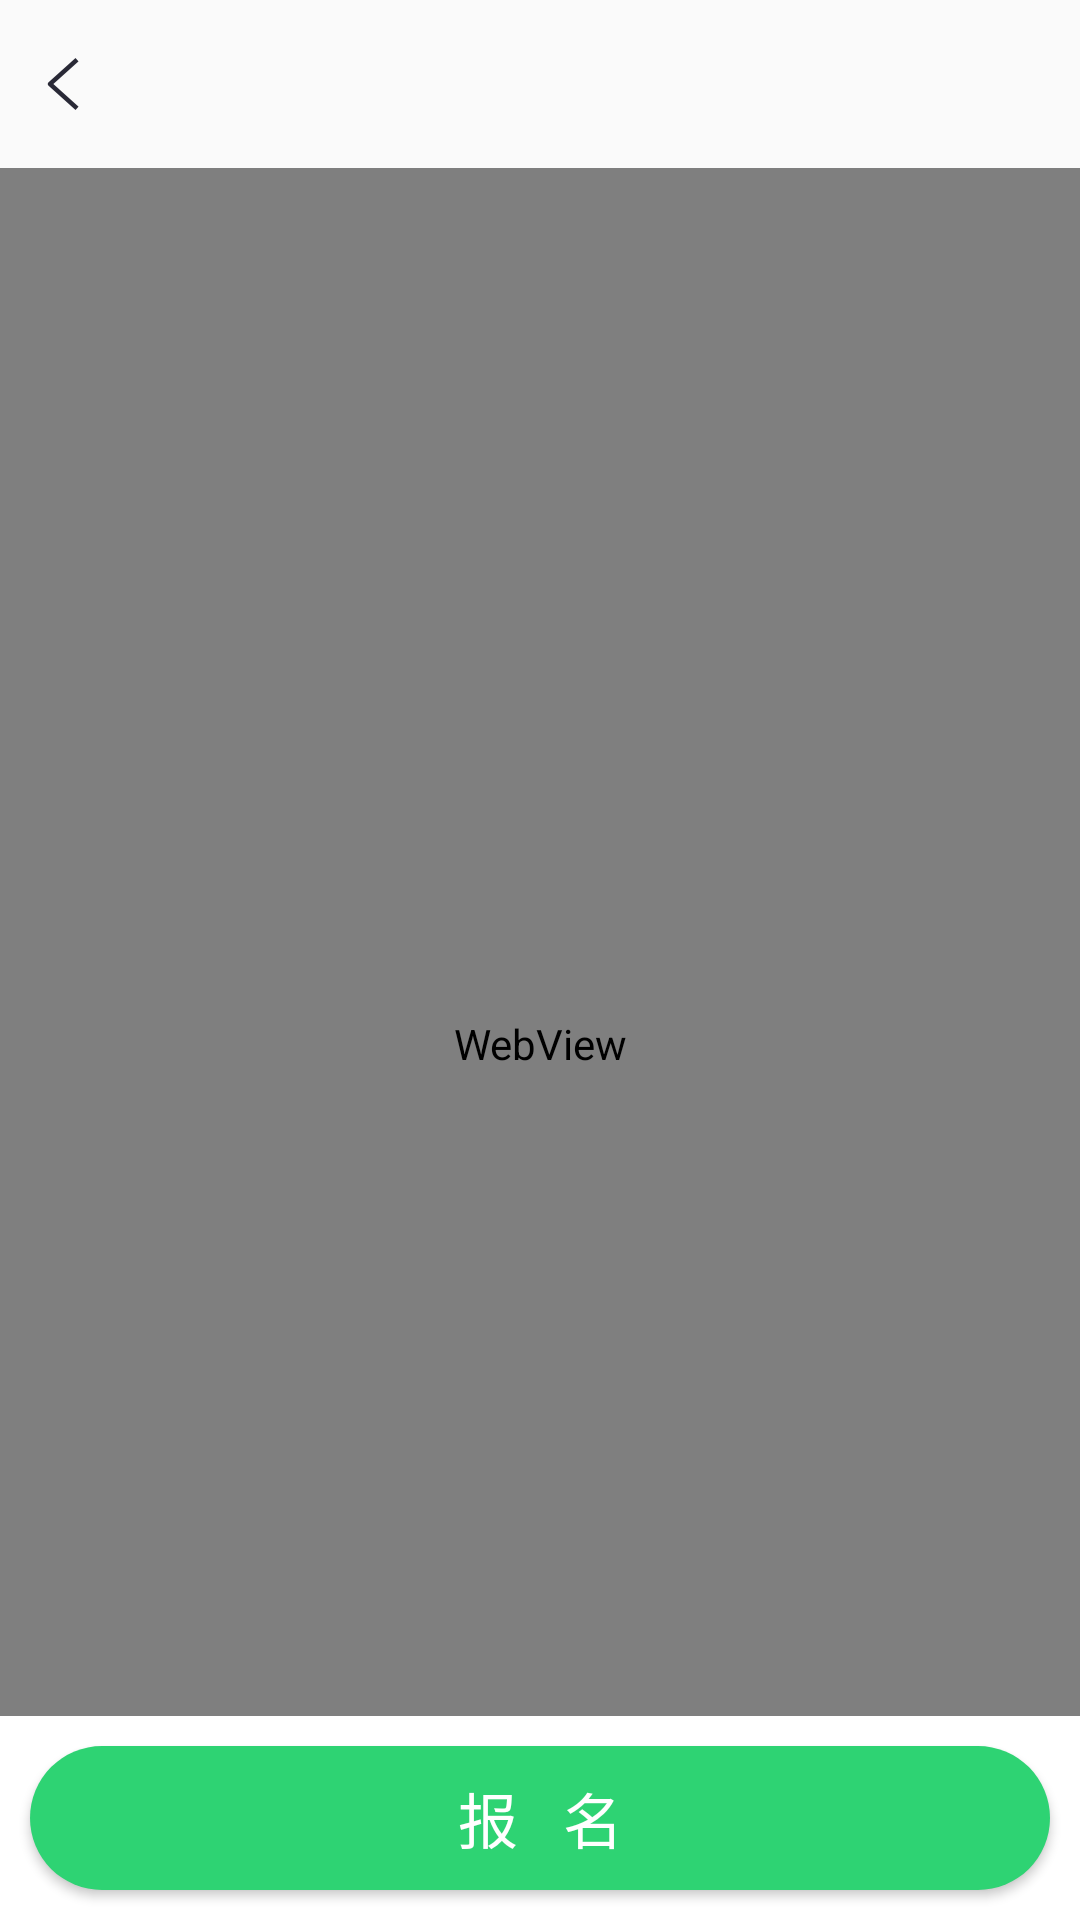

Icon bounding boxes for this 1080 × 1920 phone screenshot, format [left=x1, top=y1, right=x2, bottom=y2]:
back: [left=47, top=58, right=79, bottom=110]
